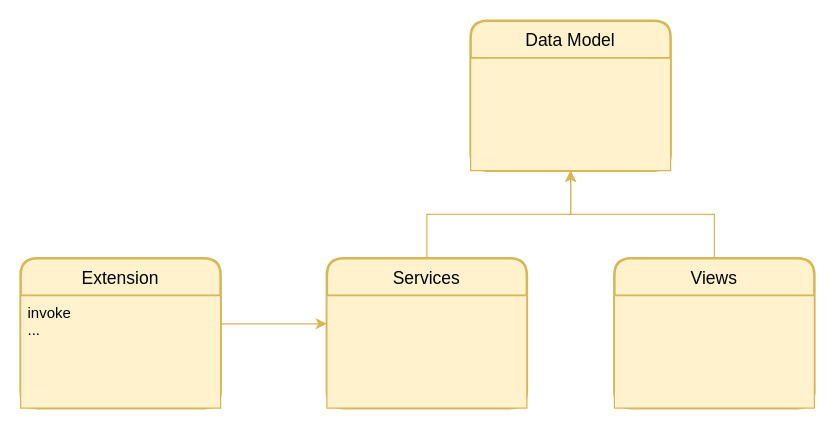
Image size: 835x429. Some labels were removed from this diagram. Here are the shapes that lost their labels. From the top down, the centre of each, then its label:
the point at 570,114: id name data ...
the point at 426,351: updateState subscribe ...
the point at 713,351: render
